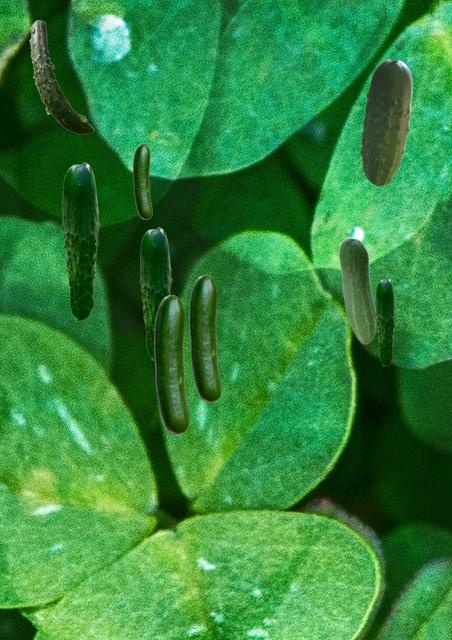cucumber: (29, 20, 93, 133), (360, 59, 411, 185), (61, 162, 99, 320), (154, 295, 188, 433), (139, 227, 171, 359), (338, 237, 376, 343), (189, 275, 220, 401), (375, 278, 395, 365), (133, 144, 151, 218)
